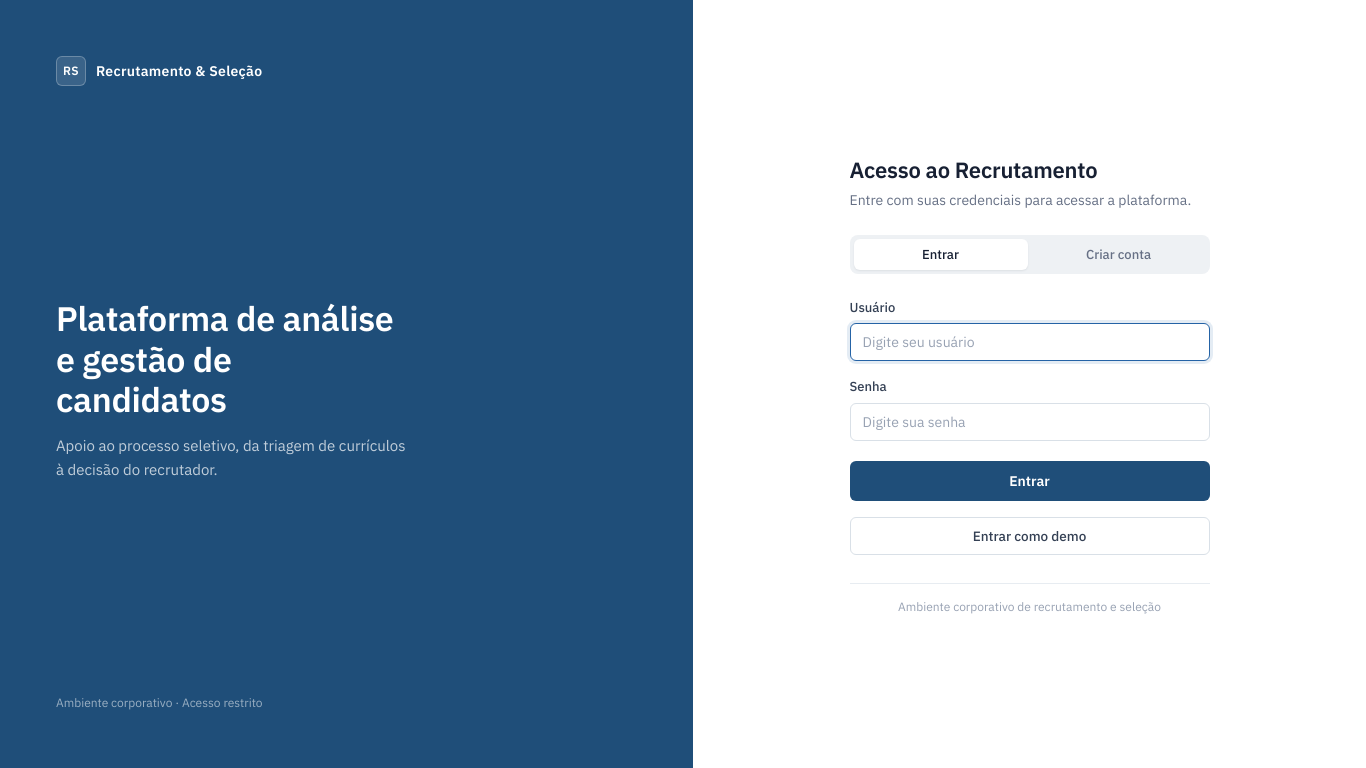
App — autenticação por usuário/senha + JWT › exibe a mensagem de erro devolvida pelo backend no login
The width and height of the screenshot is (1366, 768).
Type "admin" into the field labelled "Usuário".
click(1030, 342); type("admin")  # box [850,323,1210,361]
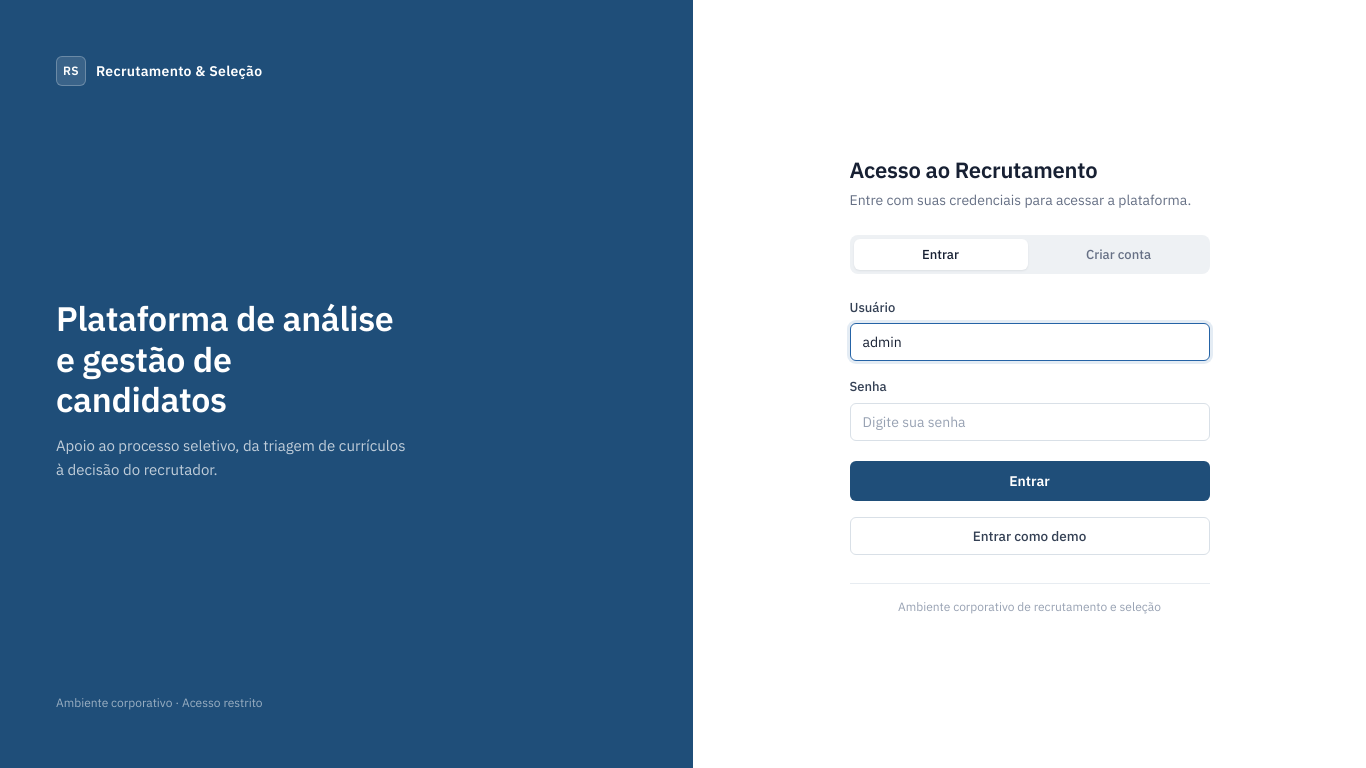
Type "senha-errada" into the password field labelled "Senha".
click(1030, 422); type("senha-errada")  # box [850,402,1210,440]
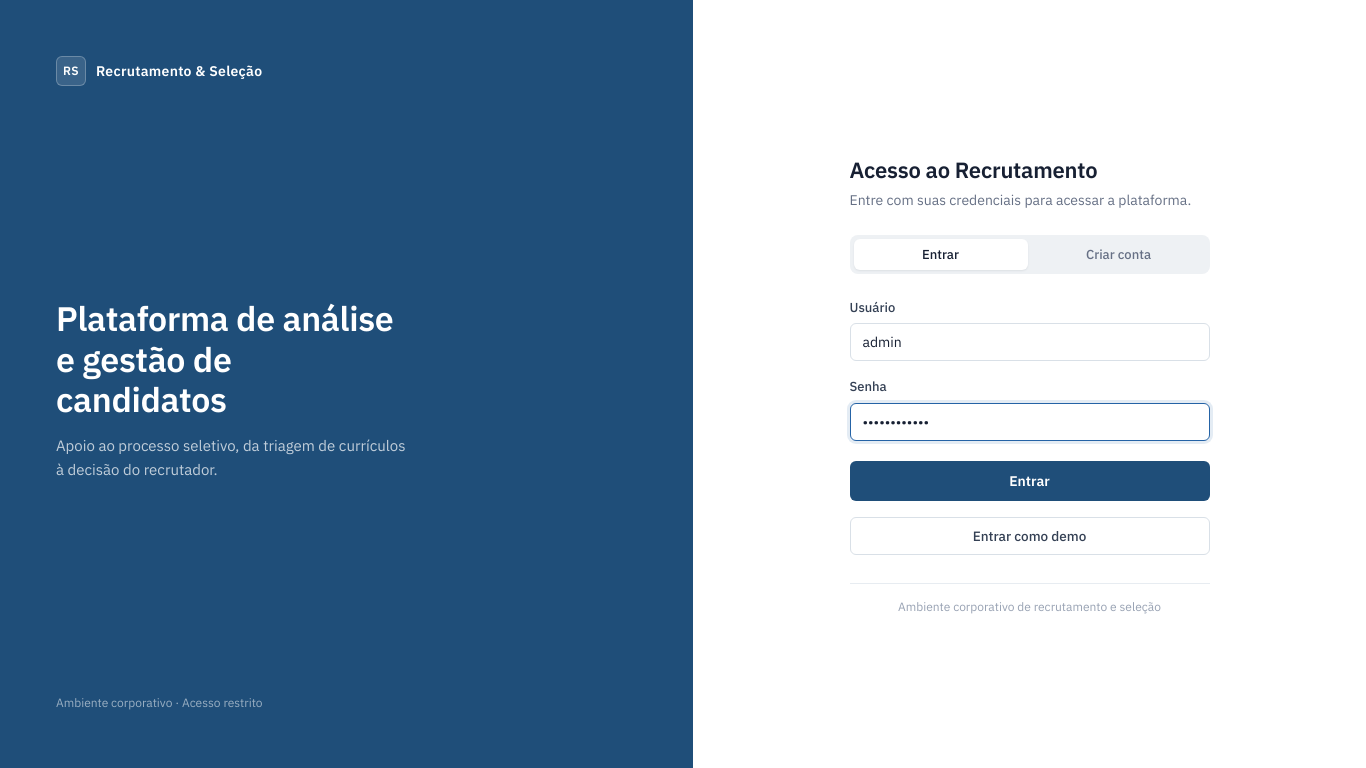
Click the button "Entrar" below "Senha".
click(1030, 480)  # box [850,460,1210,500]
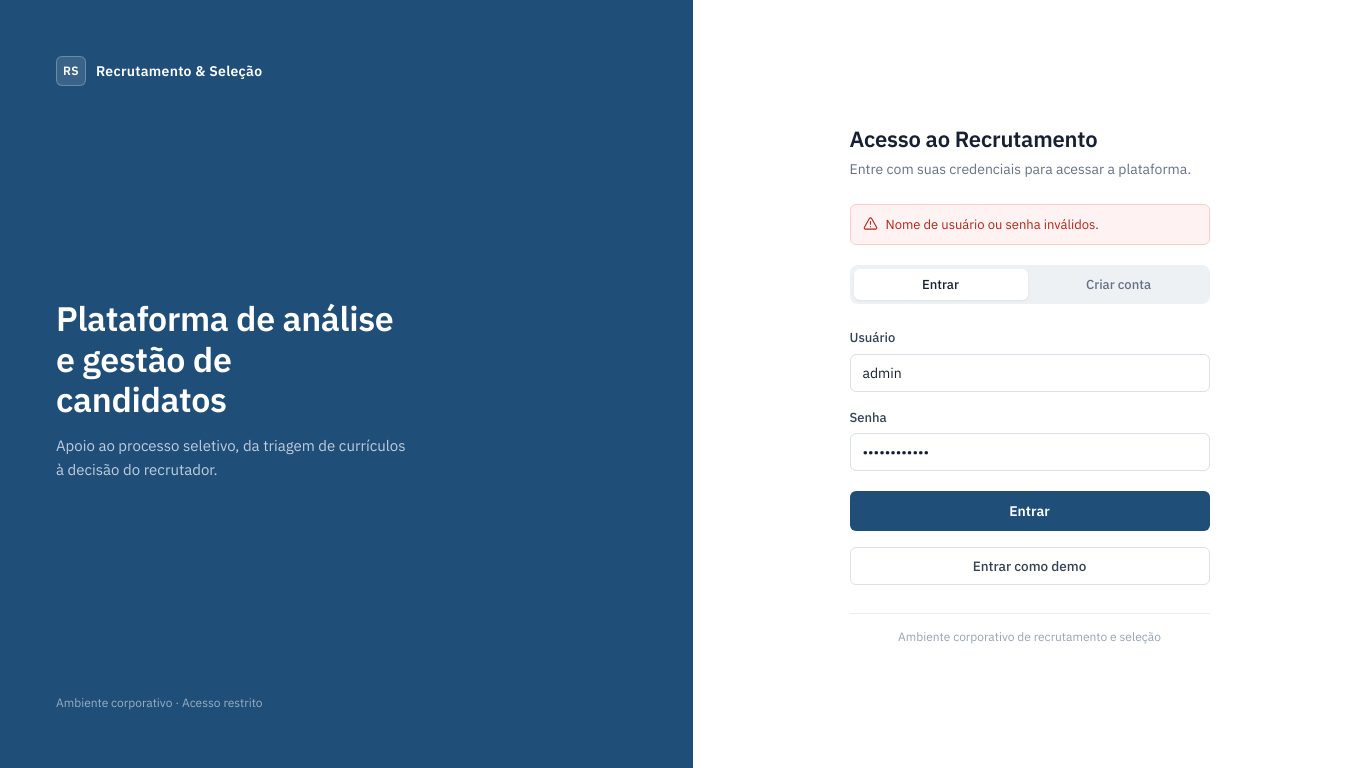
expect the text "Nome de usuário ou senha inválidos." is shown: met, box [886,215,1099,234]
